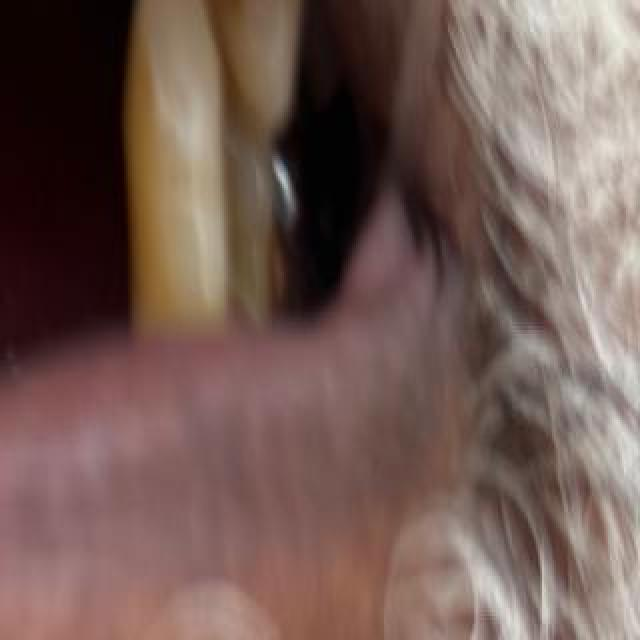cavities: (200, 0, 250, 28)
missing: (53, 48, 139, 336), (0, 62, 38, 382), (72, 0, 138, 154), (0, 0, 52, 156), (162, 0, 224, 92)
